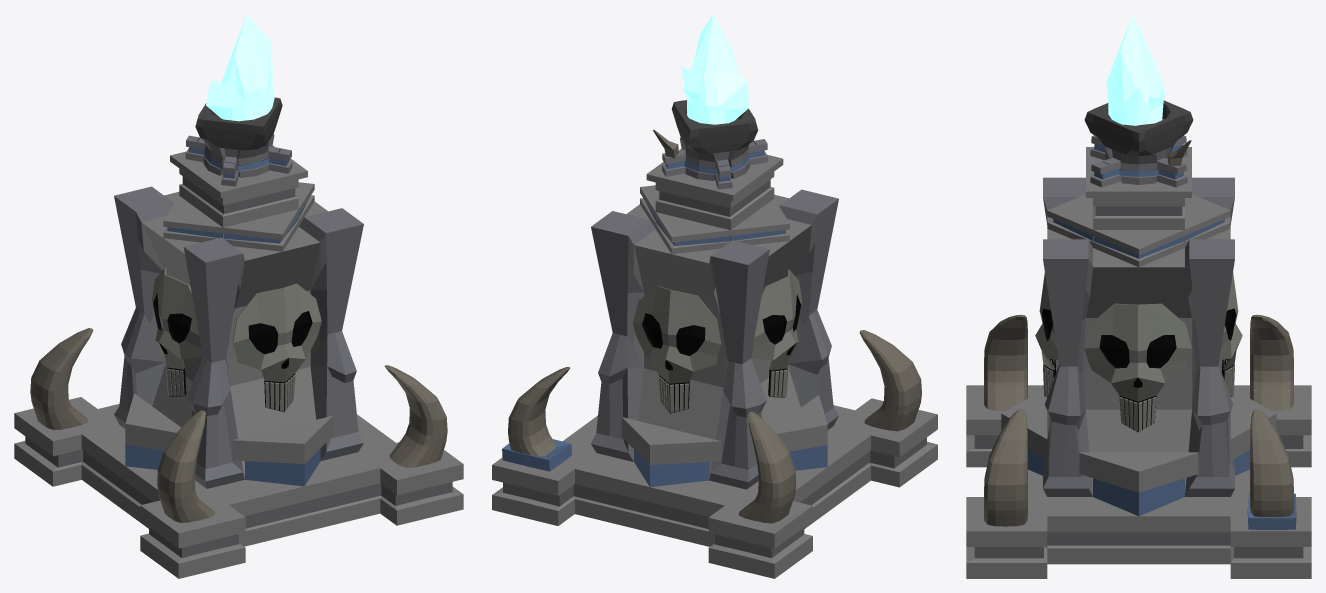
Rendered from torchstand.fbx.
3 renders of one model, left to right at view 1: azimuth 30°, elevation 25°; view 2: azimuth 150°, elevation 25°; view 3: azimuth 270°, elevation 25°, orthographic. The views are drawn at different scales.
Parts seen in each view (by area): view 1: Cube.015; view 2: Cube.015; view 3: Cube.015.
Part boxes in pixels (x1,y1,x2,y2): Cube.015: (14, 14, 463, 578); Cube.015: (492, 14, 937, 578); Cube.015: (966, 14, 1311, 578).
Size of the model in its own units: 148 by 234 by 148.
